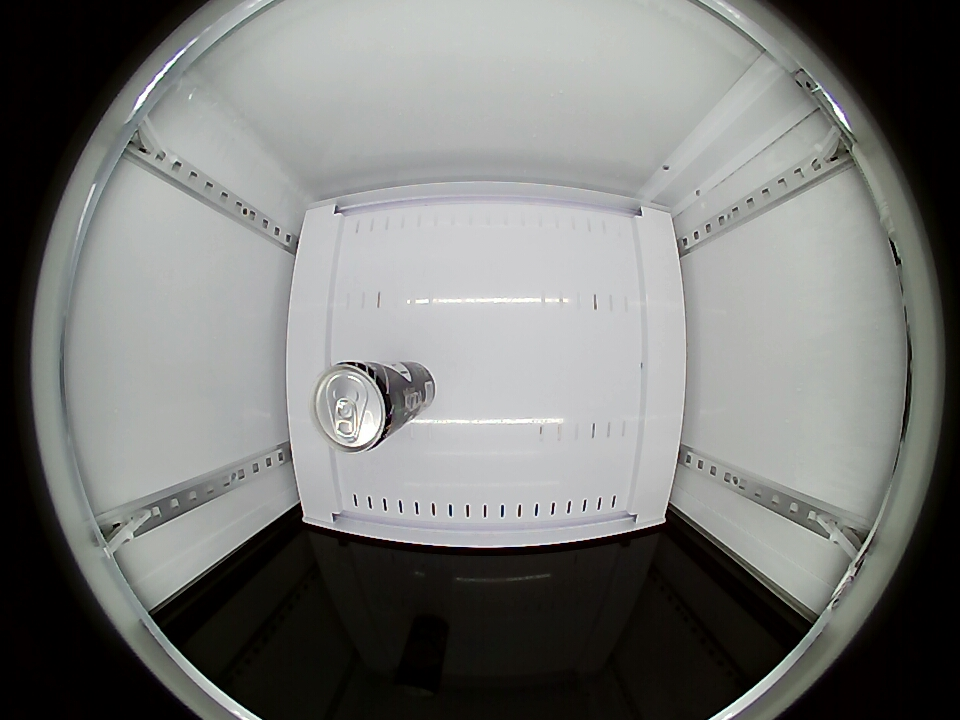qingdaowangzi-1: (311, 360, 405, 453)
